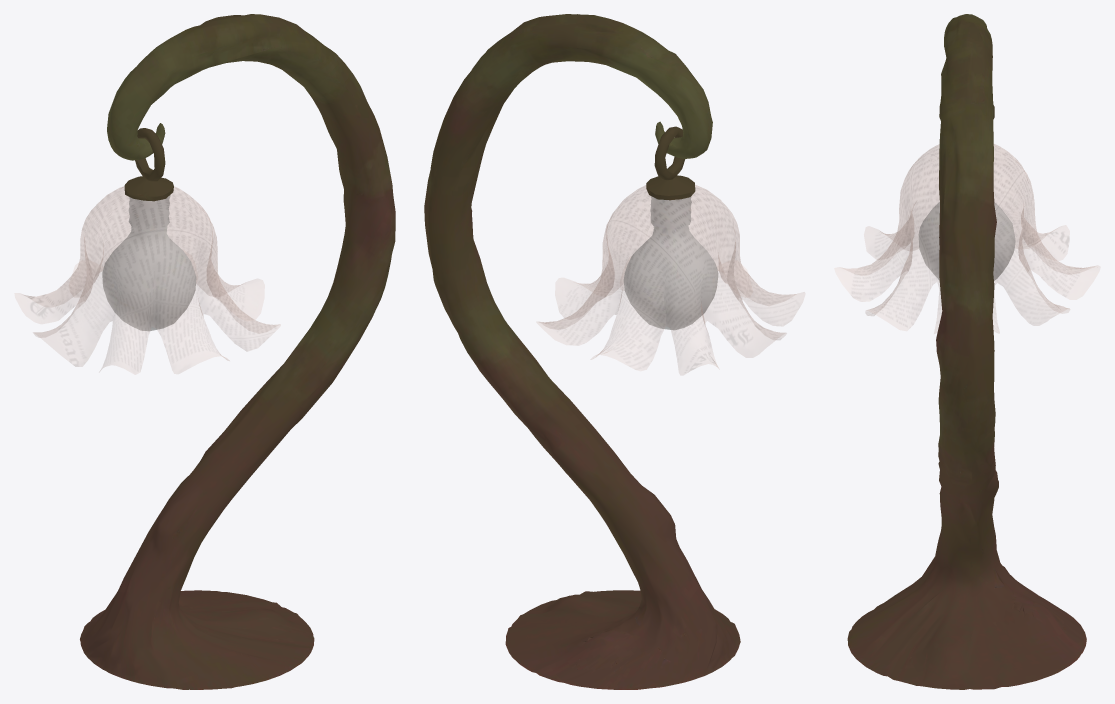
File: stehlampe_dreiarm.gltf
3 renders of one model, left to right at view 1: azimuth 30°, elevation 25°; view 2: azimuth 150°, elevation 25°; view 3: azimuth 270°, elevation 25°, orthographic.
Bounding box in the file's own units: 1.13 × 1.86 × 0.7216.
Materials: 3 (3 with a texture image).
